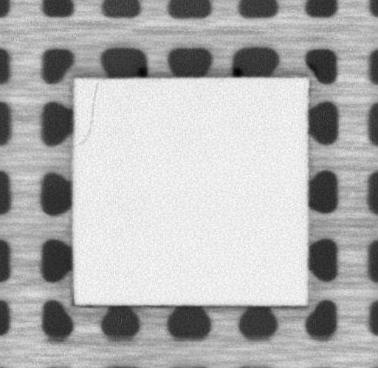DIE_CRACK: (76, 81, 99, 145)
